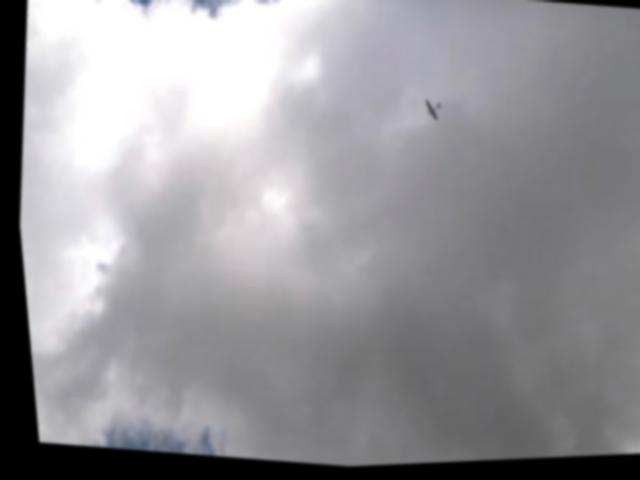iha: (414, 100, 443, 129)
